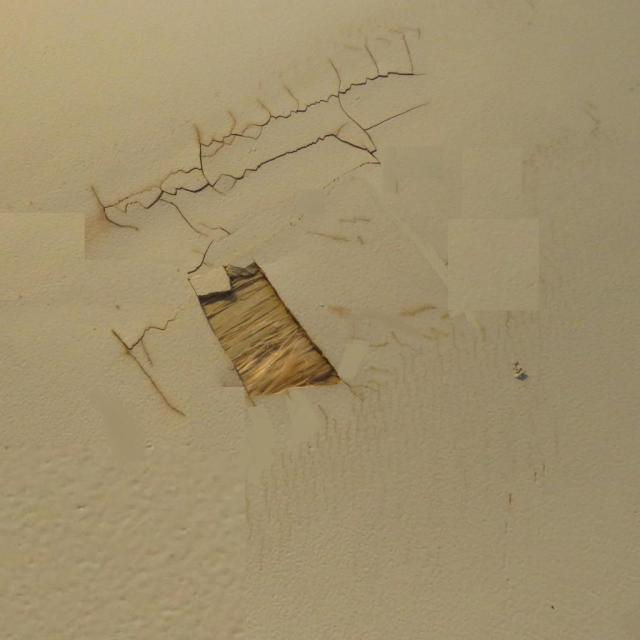crack: (95, 52, 427, 229), (110, 325, 180, 417)
surface_peeling: (193, 260, 348, 401)
